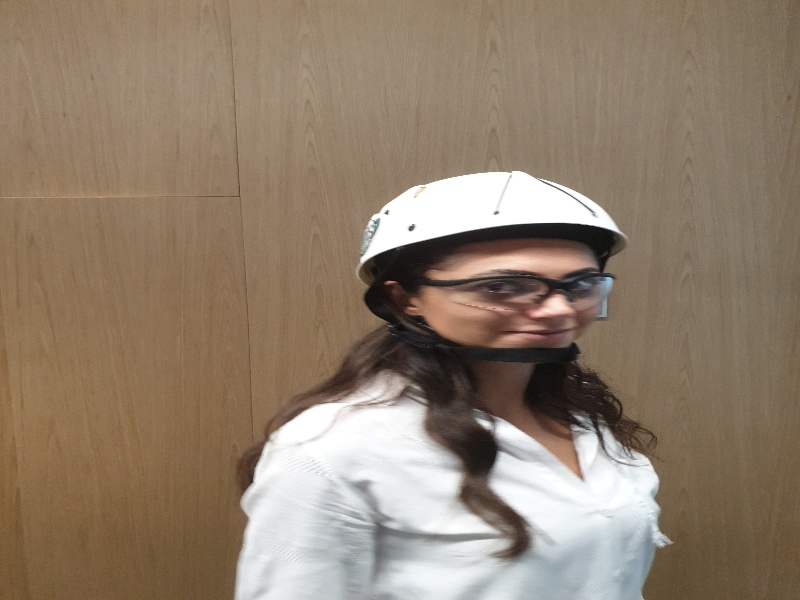Baret: (360, 171, 624, 253)
Gozluk: (414, 271, 618, 308)
